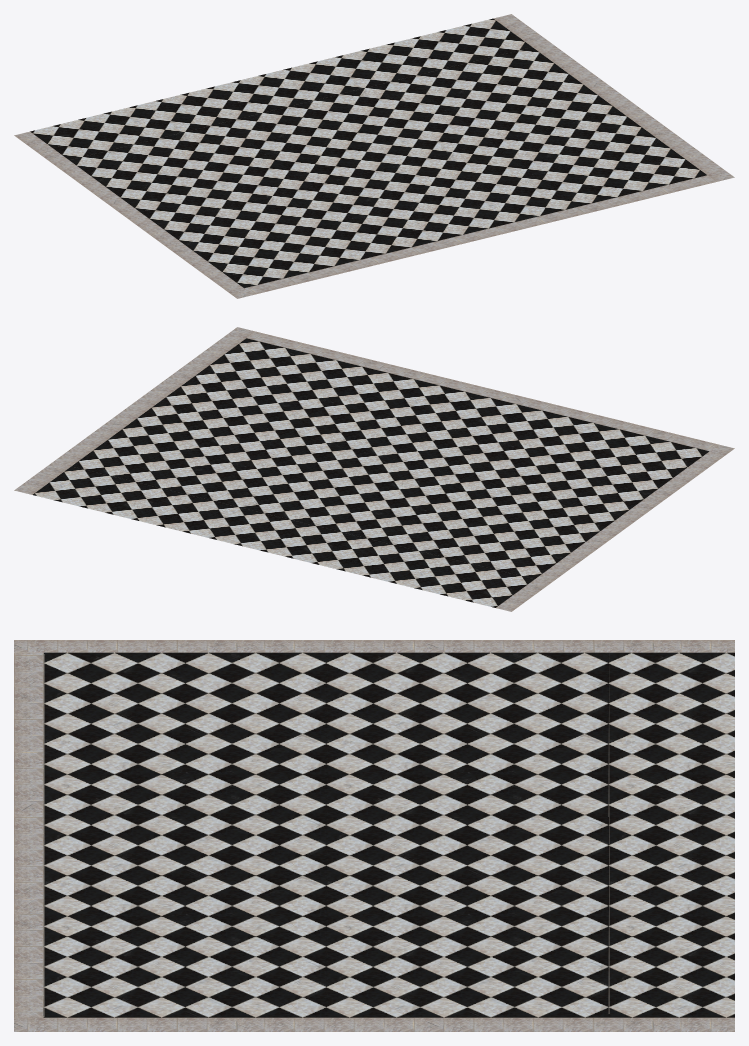
File: hall_floor.fbx
3 views of the same model, one above another, from view 1: azimuth 30°, elevation 25°; view 2: azimuth 150°, elevation 25°; view 3: azimuth 270°, elevation 25° (orthographic). The views are drawn at different scales.
Parts seen in each view (by area): view 1: polySurface311; view 2: polySurface311; view 3: polySurface311.
Boxes of the visible parts, bbox=[...] form: polySurface311: bbox=[14, 14, 734, 298]; polySurface311: bbox=[14, 327, 734, 611]; polySurface311: bbox=[14, 640, 734, 1031].
Bounding box in the file's own units: 1308 × 2.03e-13 × 1016.
